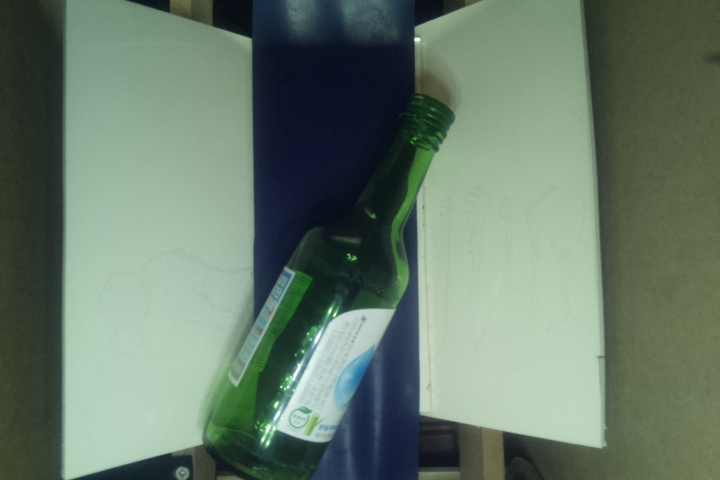soju: (200, 93, 463, 480)
